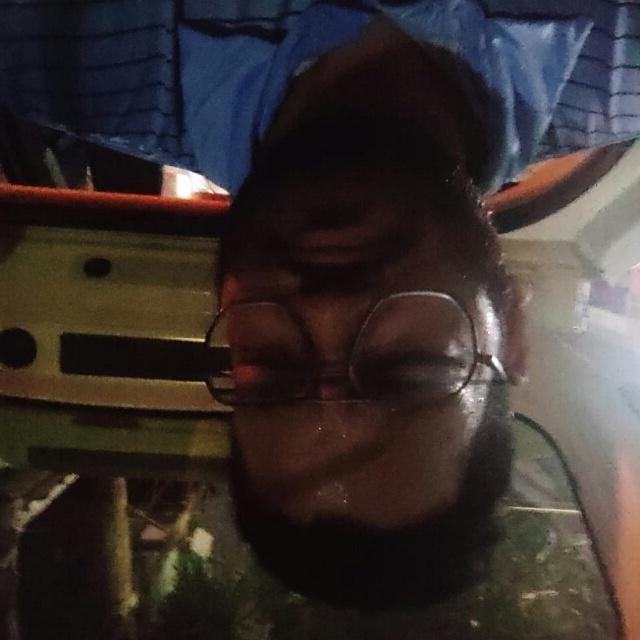Disgust: (165, 87, 544, 585)
